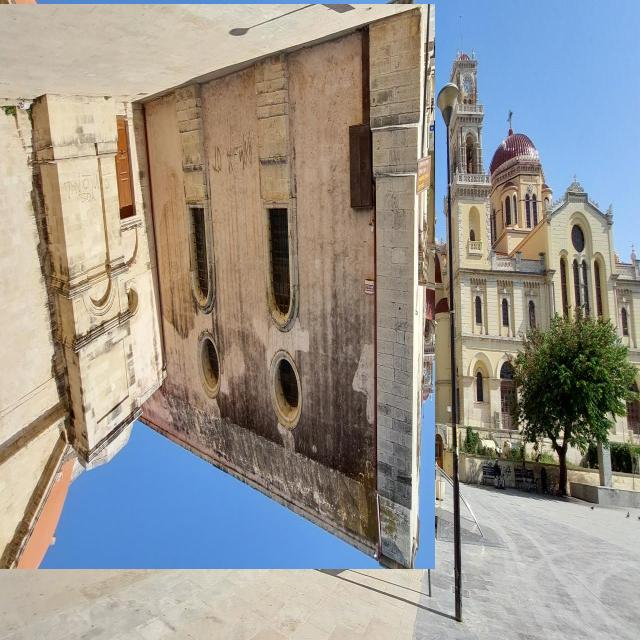Agia Aikaterini: (1, 5, 436, 570)
